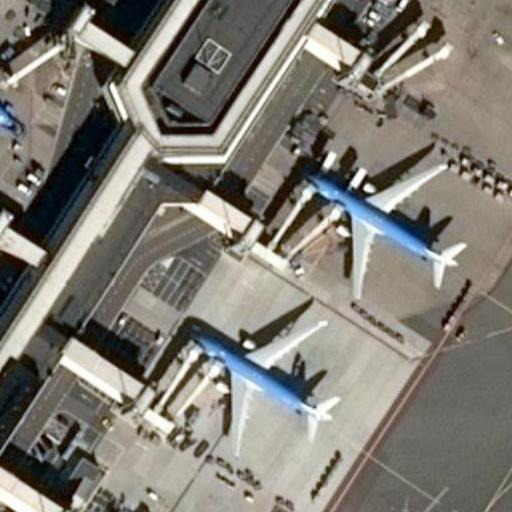Aircraft: (293, 155, 471, 303), (178, 312, 344, 449), (0, 0, 20, 139)
